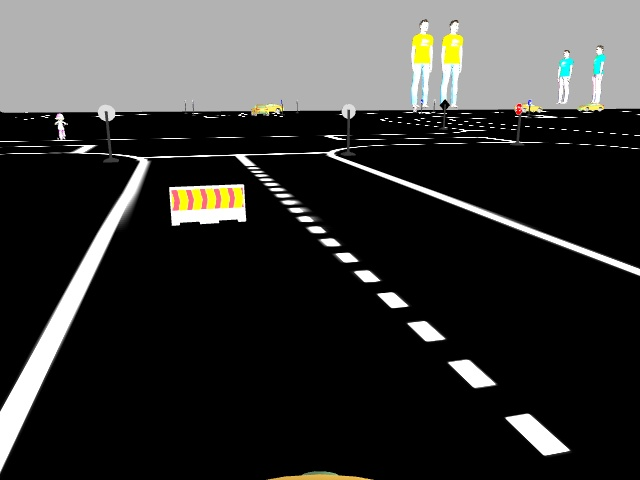ClosedRoadStand: (168, 187, 245, 221)
